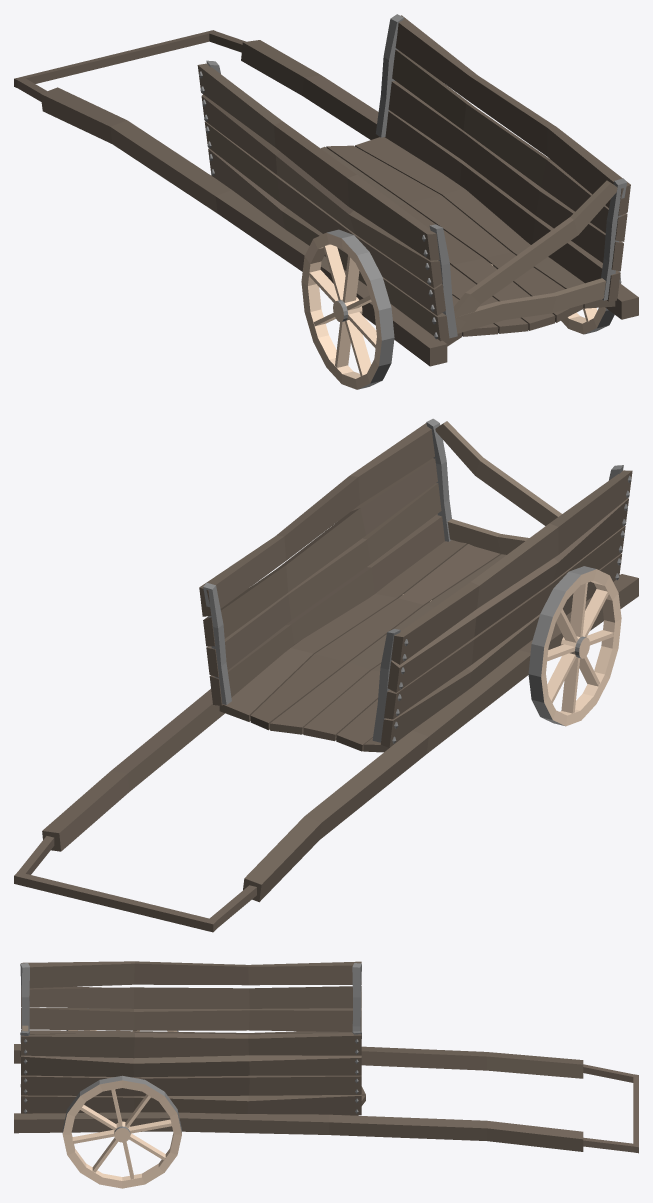
The model's file is Carrinho.fbx.
3 renders of one model, top to bottom at view 1: azimuth 30°, elevation 25°; view 2: azimuth 150°, elevation 25°; view 3: azimuth 270°, elevation 25°, orthographic. The views are drawn at different scales.
Visible parts, largest first — view 1: Cube, Cube.004, Cube.001, Cube.003, Circle.001, Cylinder, Cube.002, Circle; view 2: Cube, Cube.004, Cube.001, Circle.001, Cube.003, Cylinder, Cube.002; view 3: Cube, Cube.004, Circle, Cylinder, Cube.002.
Part boxes in pixels (x1,y1,x2,y2): Cube: (197,15,630,341); Cube.004: (14,30,638,366); Cube.001: (321,137,615,346); Cube.003: (453,180,617,333); Circle.001: (301,229,394,389); Cylinder: (309,244,597,376); Cube.002: (206,14,626,338); Circle: (561,271,621,334); Cube: (199,423,632,747); Cube.004: (14,574,638,932); Cube.001: (219,540,506,752); Circle.001: (528,566,621,726); Cube.003: (435,421,561,554); Cylinder: (403,582,613,713); Cube.002: (203,418,623,742); Cube: (21,961,361,1115); Cube.004: (14,1044,638,1153); Circle: (62,1075,181,1188); Cylinder: (72,1030,171,1179); Cube.002: (20,963,361,1042).
Size of the model in its own units: 352 by 1046 by 276.
